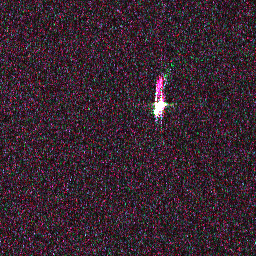ship: (151, 98, 167, 117)
